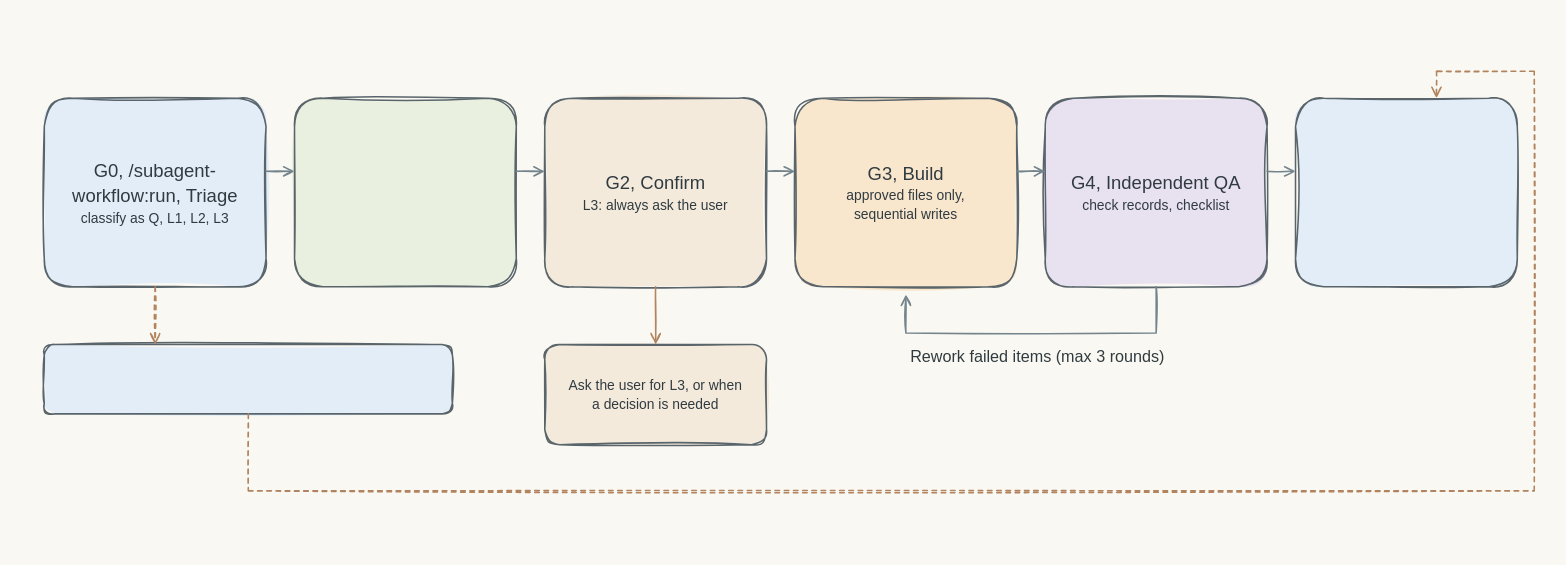
This 1566x565 diagram has some shape labels left out. Each missing label, with the centre of its shape:
"G1, Plan requirements, acceptance criteria, impact" goes at point 405,192.
"G5, Final report per-requirement status, unverified" goes at point 1406,192.
"Q, L1: handled directly by the PM L1: self-check, raise to L2 if impact appears" goes at point 248,378.
